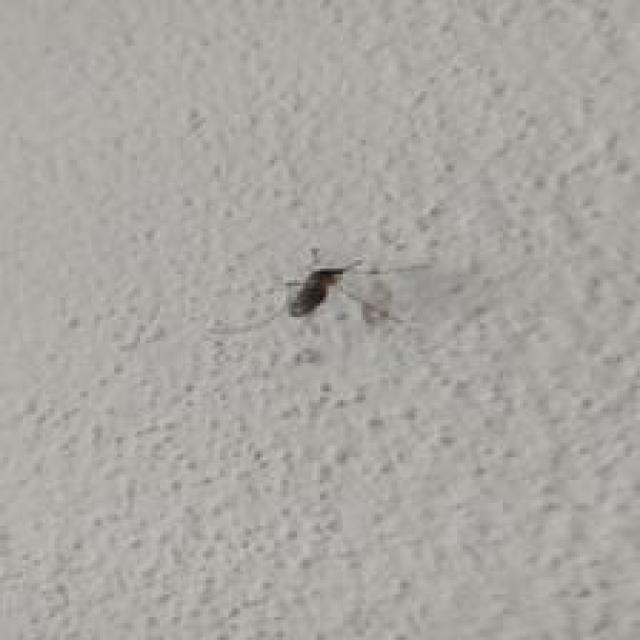Culex: (283, 248, 431, 328)
